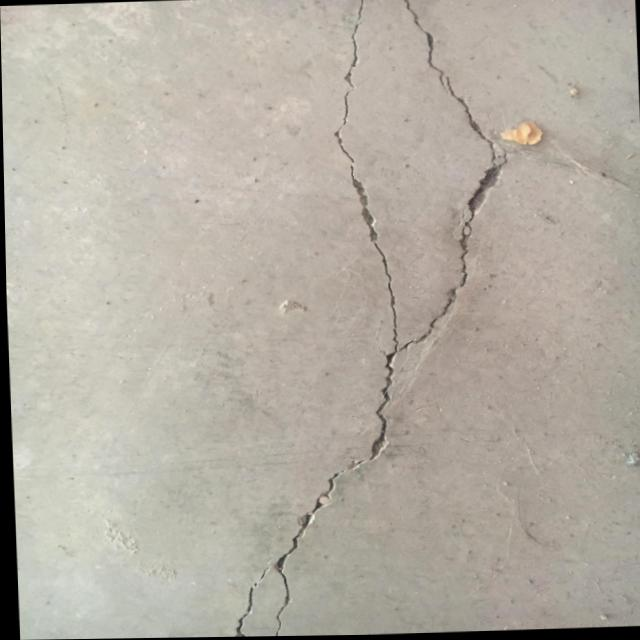Crack: (208, 345, 415, 638), (392, 0, 515, 351), (325, 0, 413, 350)
